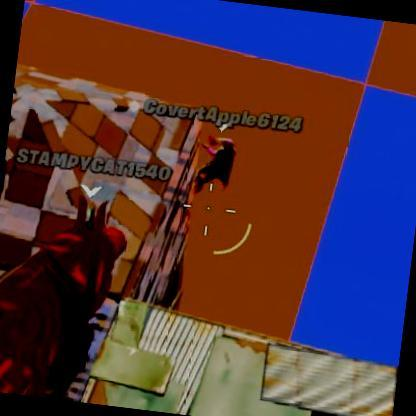person: (204, 131, 237, 201)
